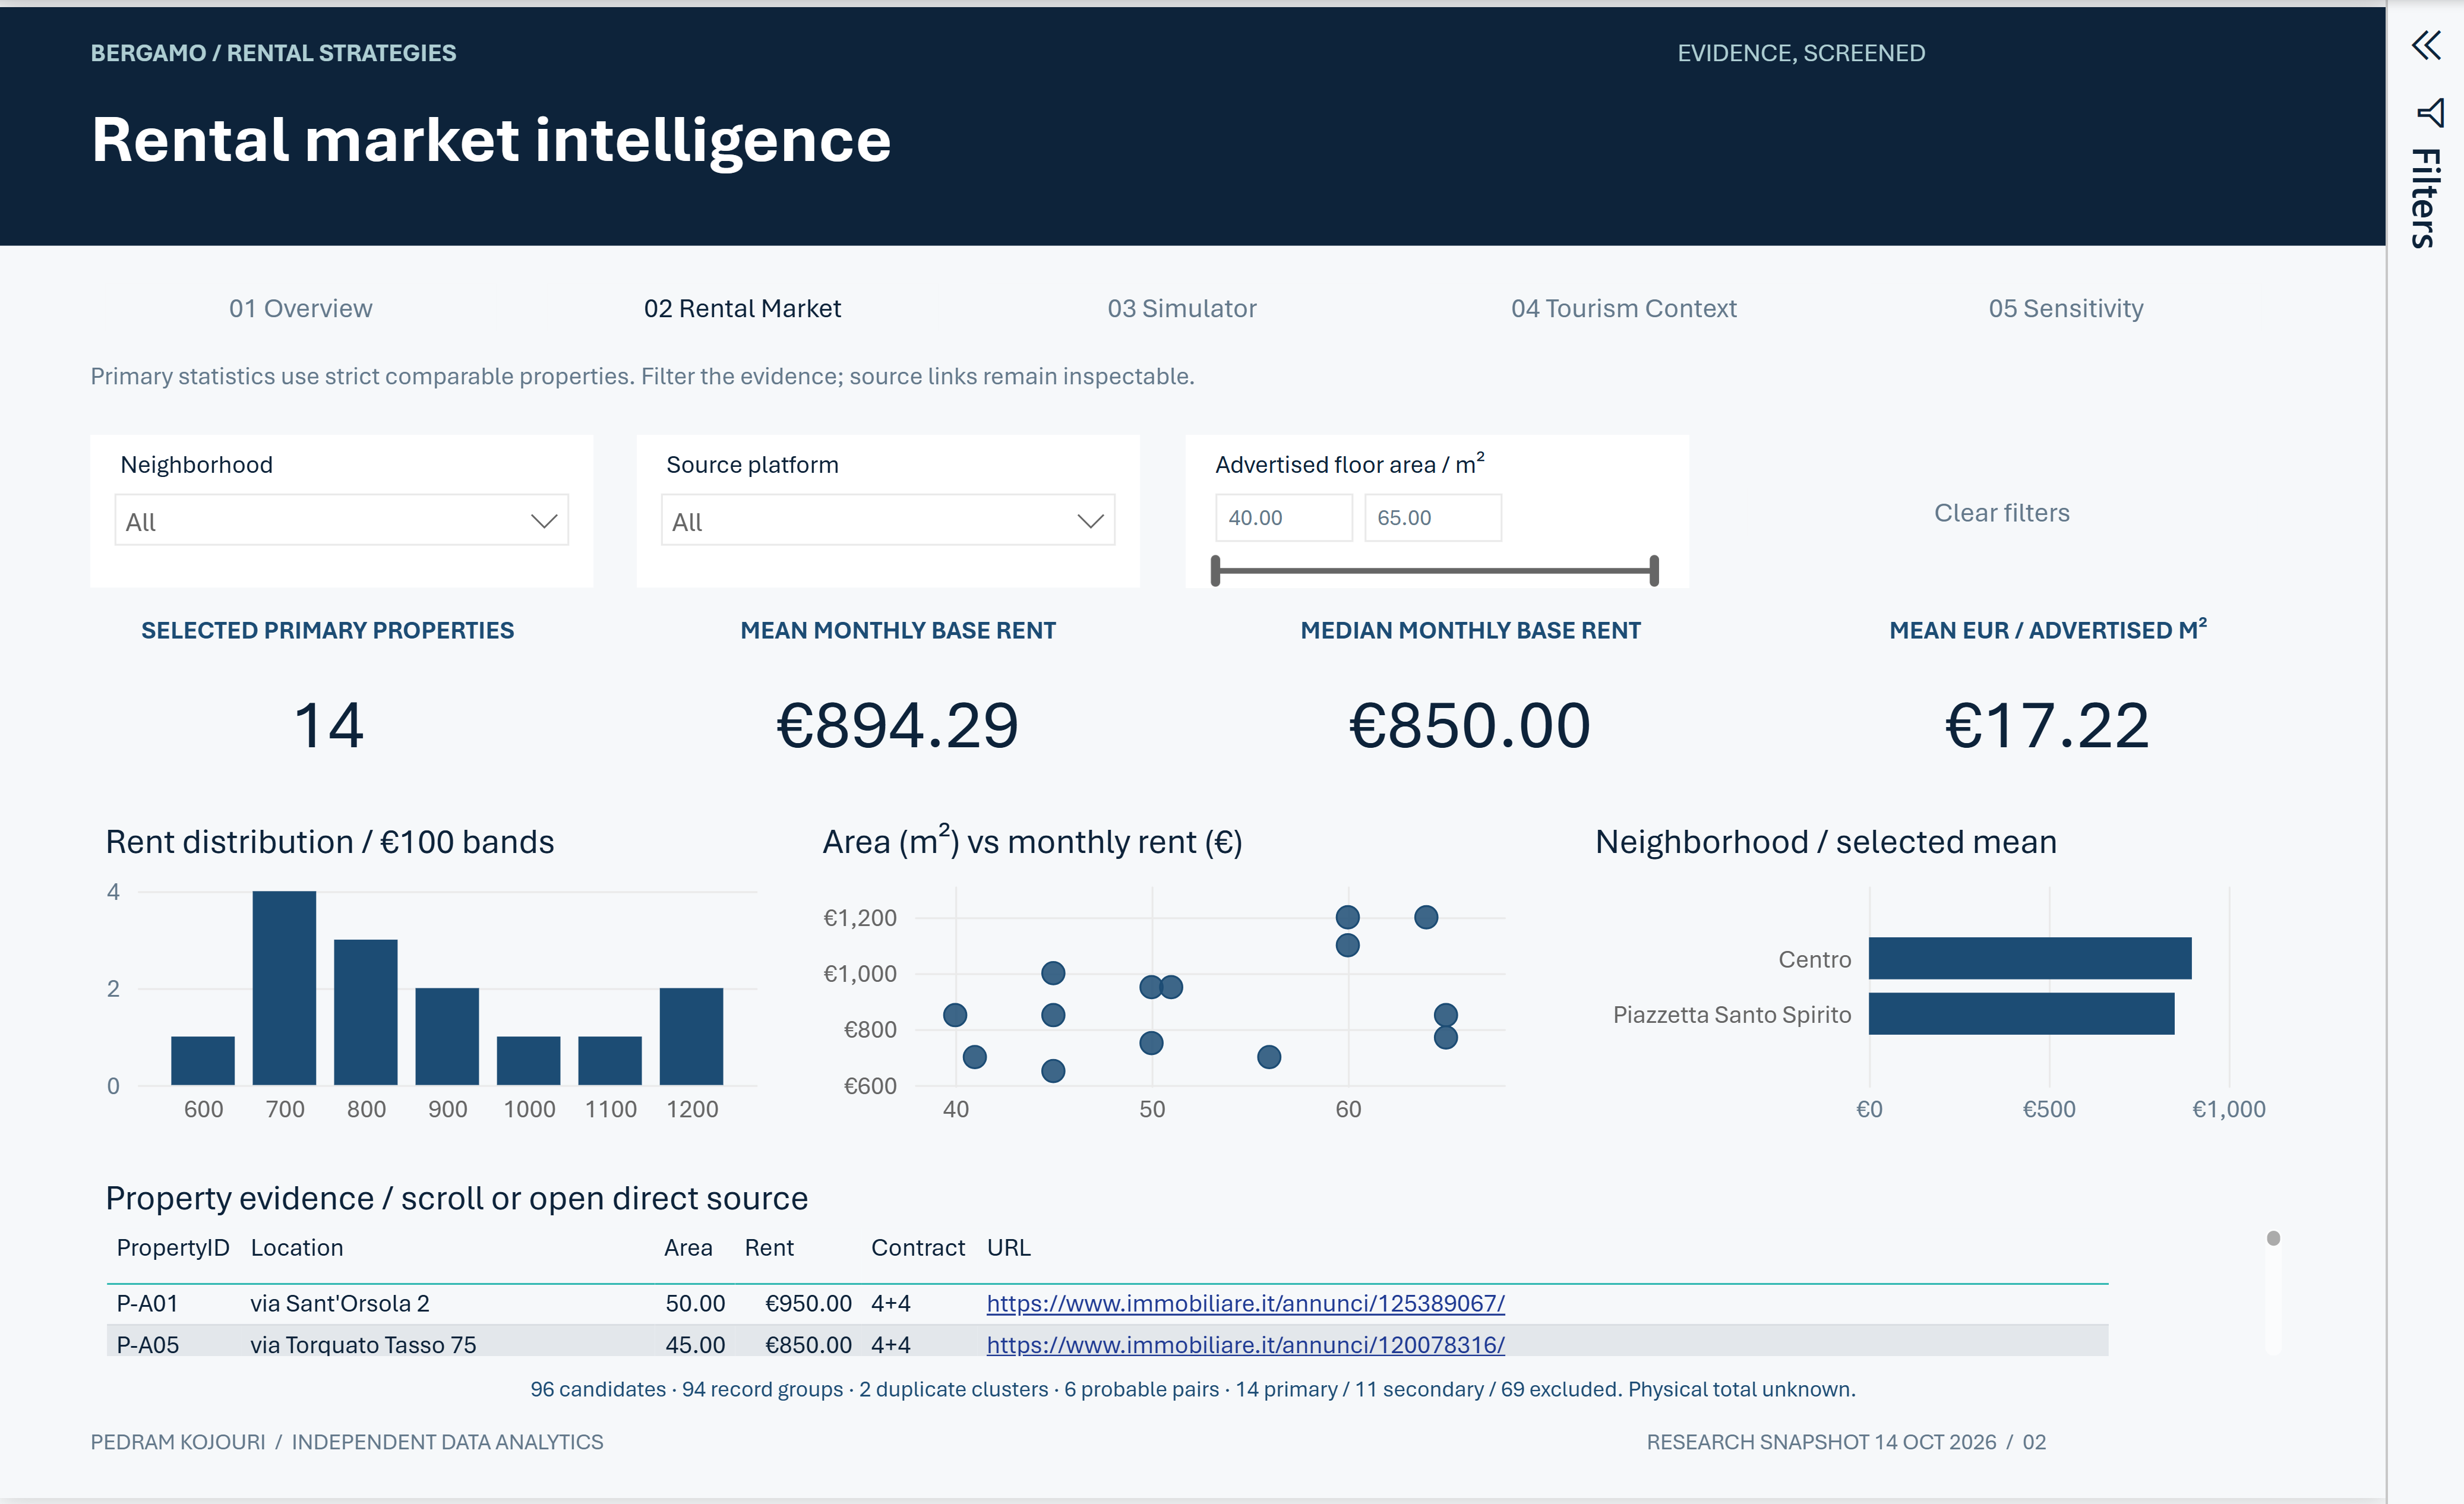

This screenshot's page, from the dashboard's own definition file:
{"tool":"powerbi","page":{"name":"Rental Market","canvas":[1280,800],"ordinal":1},"visuals":[{"type":"textbox","box":[0,0,1280,128],"z":31},{"type":"textbox","box":[48,16,690,24],"z":32},{"type":"textbox","box":[900,16,332,24],"z":33},{"type":"textbox","box":[48,49,1150,60],"z":34},{"type":"actionButton","box":[48,140,226,42],"z":35},{"type":"actionButton","box":[285,140,226,42],"z":36},{"type":"actionButton","box":[522,140,226,42],"z":37},{"type":"actionButton","box":[759,140,226,42],"z":38},{"type":"actionButton","box":[996,140,226,42],"z":39},{"type":"textbox","box":[48,190,1184,36],"z":40},{"type":"textbox","box":[48,762,650,24],"z":41},{"type":"textbox","box":[884,762,350,24],"z":42},{"type":"slicer","fields":{"Values":["Listings.Neighborhood"]},"box":[48,230,270,82],"z":43},{"type":"slicer","fields":{"Values":["Listings.Platform"]},"box":[342,230,270,82],"z":44},{"type":"slicer","fields":{"Values":["Listings.Area"]},"box":[636,230,270,82],"z":45},{"type":"actionButton","box":[930,250,290,42],"z":46},{"type":"textbox","box":[48,326,255,24],"z":47},{"type":"card","fields":{"Values":["Metrics.Primary Count"]},"box":[48,351,255,64],"z":48},{"type":"textbox","box":[354,326,255,24],"z":49},{"type":"card","fields":{"Values":["Metrics.Primary Mean Display"]},"box":[354,351,255,64],"z":50},{"type":"textbox","box":[662,326,255,24],"z":51},{"type":"card","fields":{"Values":["Metrics.Primary Median Display"]},"box":[662,351,255,64],"z":52},{"type":"textbox","box":[974,326,250,24],"z":53},{"type":"card","fields":{"Values":["Metrics.Mean EUR per m2 Display"]},"box":[974,351,250,64],"z":54},{"type":"columnChart","title":"Rent distribution / €100 bands","fields":{"Category":["RentBands.Lower"],"Y":["Metrics.Rent Band Count"]},"box":[48,428,366,184],"z":55},{"type":"scatterChart","title":"Area (m²) vs monthly rent (€)","fields":{"Category":["Listings.PropertyID"],"X":["Listings.Area"],"Y":["Listings.Rent"]},"box":[434,428,390,184],"z":56},{"type":"barChart","title":"Neighborhood / selected mean","fields":{"Category":["Listings.Neighborhood"],"Y":["Metrics.Primary Mean"]},"box":[848,428,376,184],"z":57},{"type":"tableEx","title":"Property evidence / scroll or open direct source","fields":{"Values":["Listings.PropertyID","Listings.Location","Listings.Area","Listings.Rent","Listings.Contract","Listings.URL"]},"box":[48,619,1184,112],"z":58},{"type":"card","fields":{"Values":["Metrics.Screening Summary"]},"box":[48,730,1184,26],"z":59}]}

Visuals, with their boxes in screenshot pixels (x1, y1, x2, y2), scaled from the page's 1280x800 canvas onto the 2464x1504 screenshot:
textbox: BBox(0, 0, 2463, 241)
textbox: BBox(93, 30, 1421, 75)
textbox: BBox(1733, 30, 2371, 75)
textbox: BBox(93, 92, 2306, 205)
actionButton: BBox(93, 263, 527, 342)
actionButton: BBox(549, 263, 984, 342)
actionButton: BBox(1005, 263, 1440, 342)
actionButton: BBox(1461, 263, 1896, 342)
actionButton: BBox(1918, 263, 2352, 342)
textbox: BBox(93, 357, 2371, 425)
textbox: BBox(93, 1433, 1344, 1478)
textbox: BBox(1702, 1433, 2375, 1478)
slicer - Listings.Neighborhood: BBox(93, 432, 612, 586)
slicer - Listings.Platform: BBox(658, 432, 1178, 586)
slicer - Listings.Area: BBox(1224, 432, 1744, 586)
actionButton: BBox(1790, 470, 2349, 549)
textbox: BBox(93, 613, 583, 658)
card - Metrics.Primary Count: BBox(93, 660, 583, 780)
textbox: BBox(681, 613, 1173, 658)
card - Metrics.Primary Mean Display: BBox(681, 660, 1173, 780)
textbox: BBox(1274, 613, 1765, 658)
card - Metrics.Primary Median Display: BBox(1274, 660, 1765, 780)
textbox: BBox(1875, 613, 2356, 658)
card - Metrics.Mean EUR per m2 Display: BBox(1875, 660, 2356, 780)
"Rent distribution / €100 bands" columnChart: BBox(93, 805, 797, 1151)
"Area (m²) vs monthly rent (€)" scatterChart: BBox(835, 805, 1586, 1151)
"Neighborhood / selected mean" barChart: BBox(1632, 805, 2356, 1151)
"Property evidence / scroll or open direct source" tableEx: BBox(93, 1164, 2371, 1375)
card - Metrics.Screening Summary: BBox(93, 1372, 2371, 1421)
